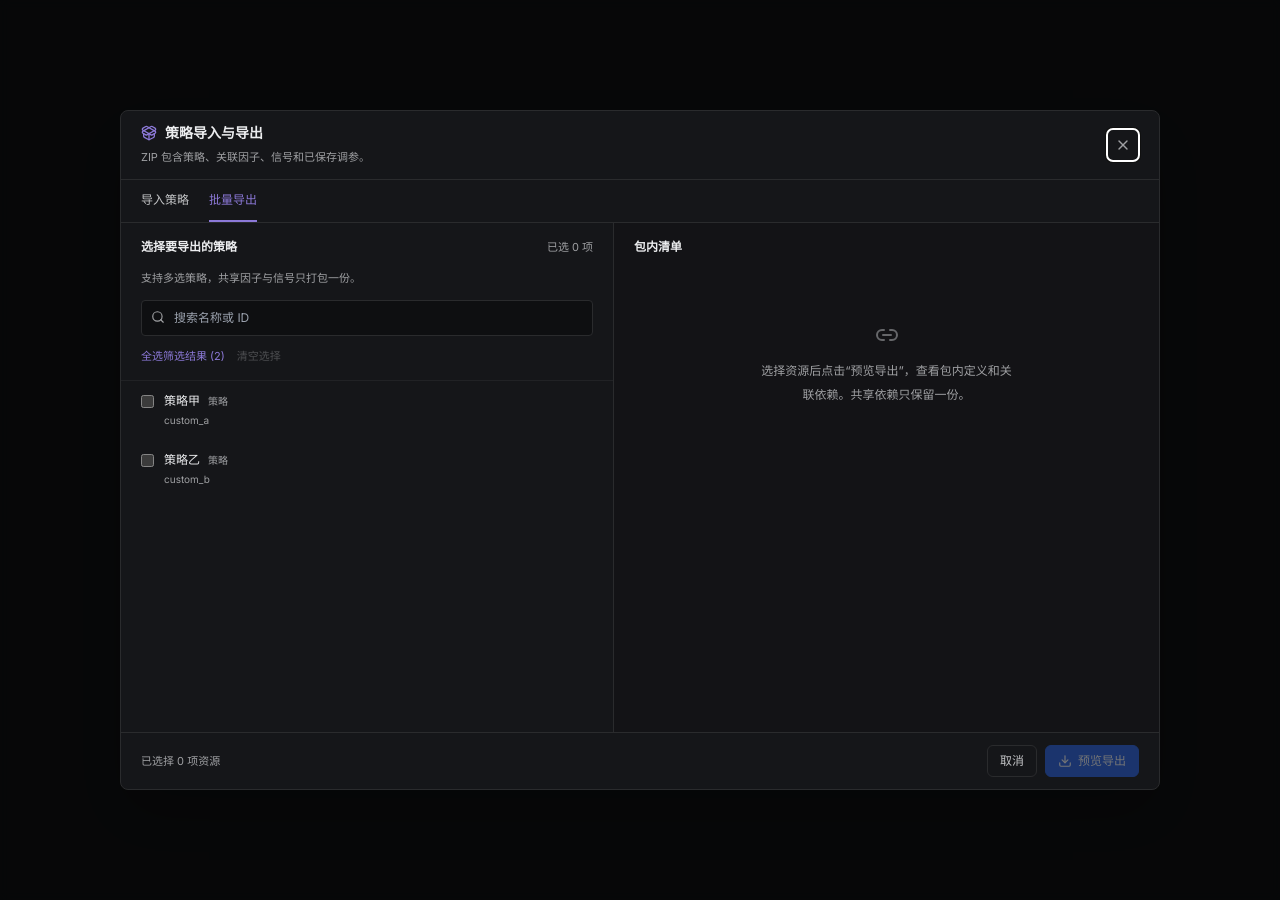
Test: an export that changed after preview returns to preview instead of repeating a stale download
Click the button "全选筛选结果 (2)".
click(183, 356)  # box [141,348,225,364]
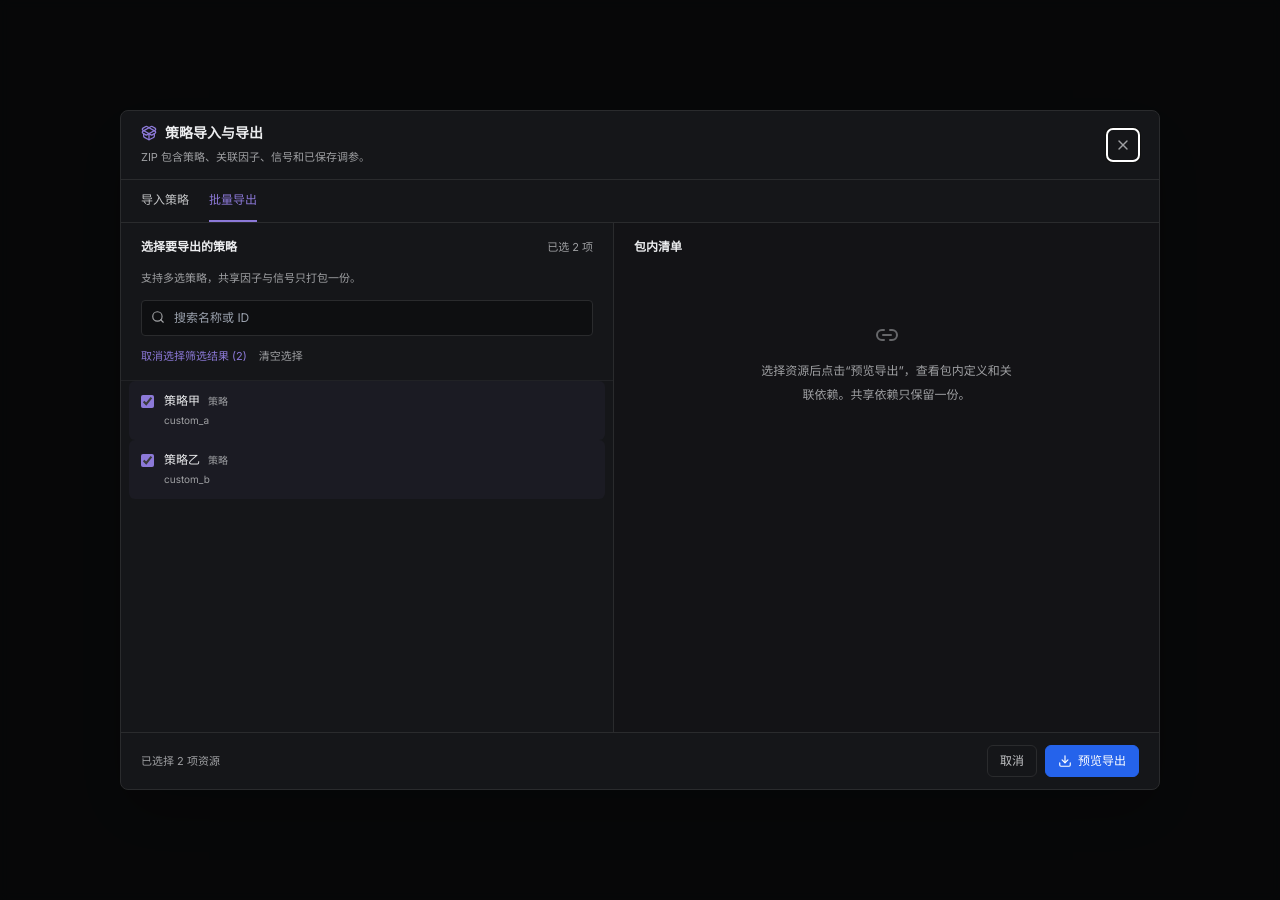
Click the button "预览导出".
click(1092, 761)  # box [1045,745,1139,777]
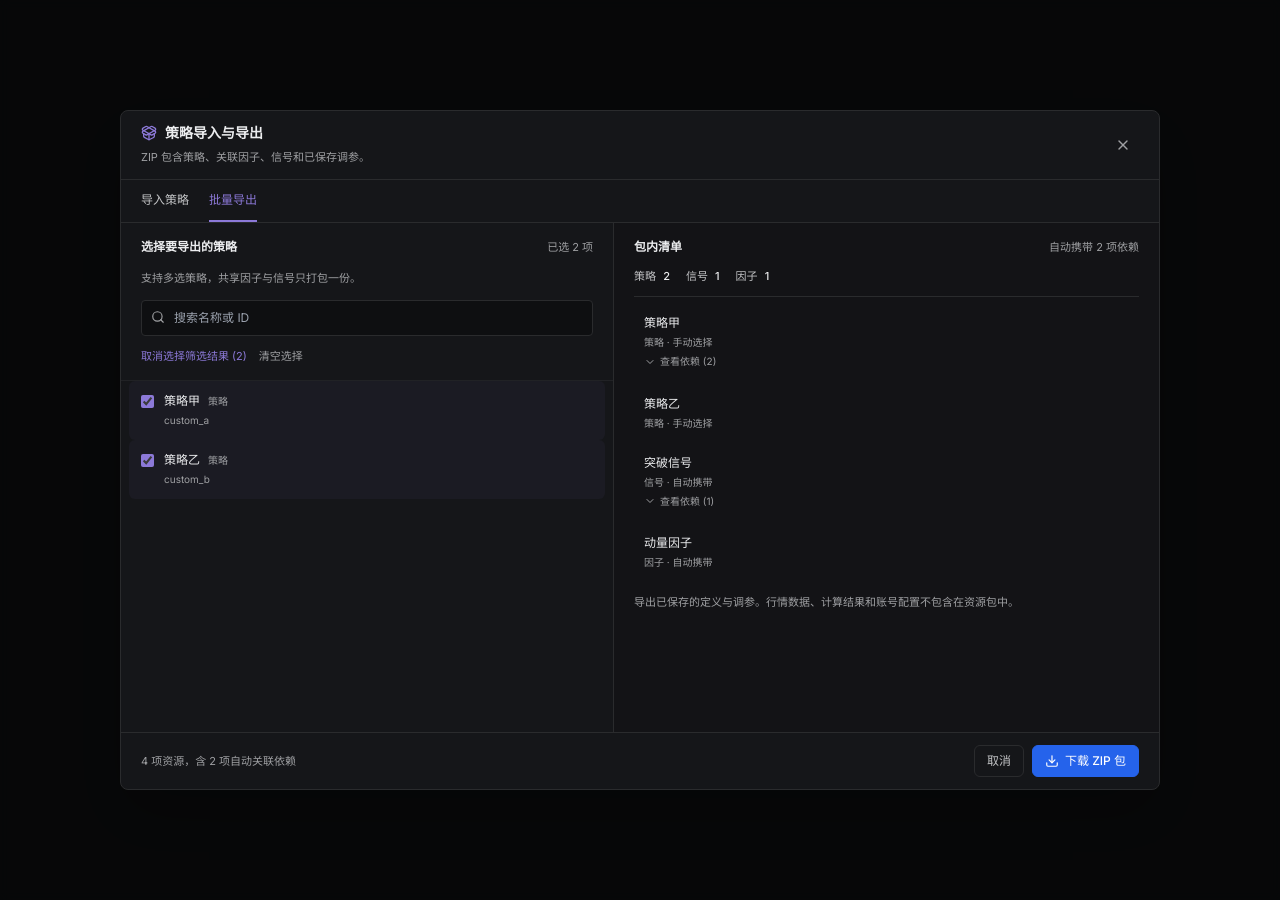
Click the button "下载 ZIP 包".
click(1085, 761)  # box [1032,745,1139,777]
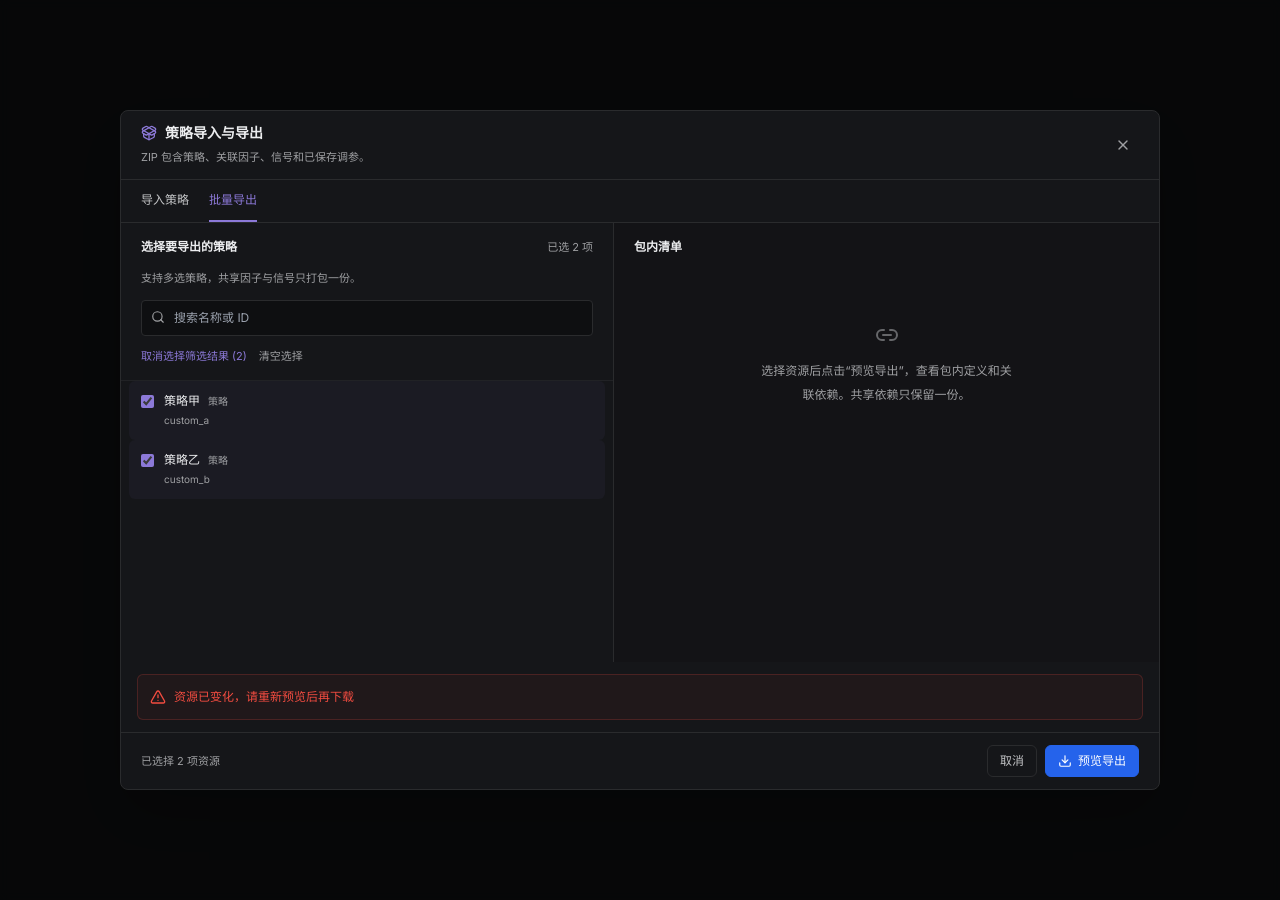
Expected: the button "预览导出" is shown, [1045,745,1139,777]
Result: the text "重新预览后再下载" is shown at [174,689,354,704]
